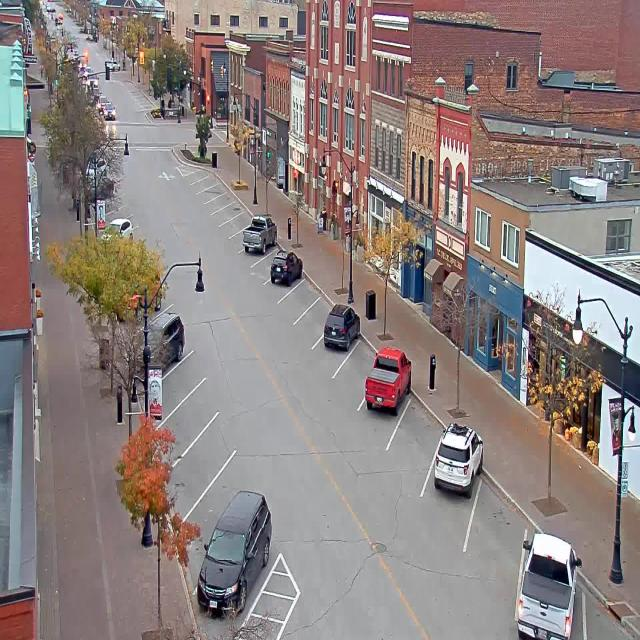available: (472, 466, 533, 565), (183, 407, 243, 487), (197, 448, 261, 518), (398, 369, 450, 447), (580, 573, 640, 640), (174, 357, 226, 433), (158, 336, 207, 397), (346, 320, 383, 384), (292, 258, 323, 310), (309, 282, 337, 330), (264, 226, 288, 260), (235, 204, 254, 234), (228, 192, 245, 221), (220, 183, 237, 210), (204, 168, 219, 192), (212, 177, 227, 200), (194, 160, 208, 182)
occupied: (196, 489, 272, 616), (516, 528, 582, 639), (434, 421, 484, 497), (364, 345, 412, 414), (143, 310, 185, 364), (323, 302, 360, 351), (242, 213, 277, 254), (270, 249, 303, 286)
